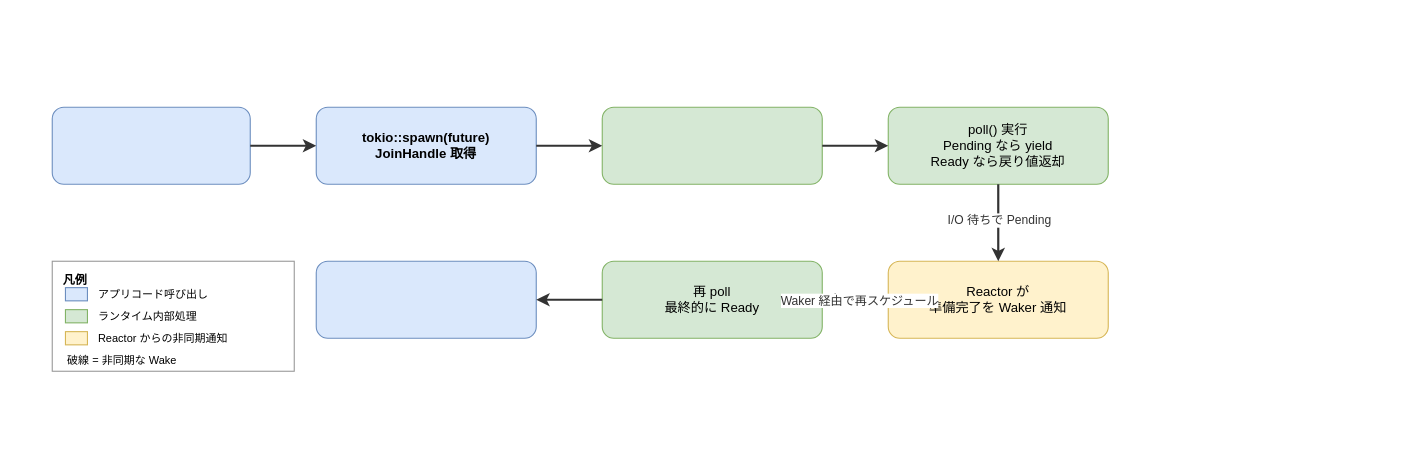
The diagram is 1401 pixels wide and 455 high, and some of its shapes have lost their labels. The shapes that lost their labels are listed below. From the top down, each one's box as (x1, y1, x2, y2) in pixels, then its label:
(51, 106, 250, 184): async fn 定義 Future の生成
(601, 106, 822, 184): Worker Thread の ローカルキューに登録
(315, 260, 536, 338): JoinHandle.await 結果を呼び出し元へ
